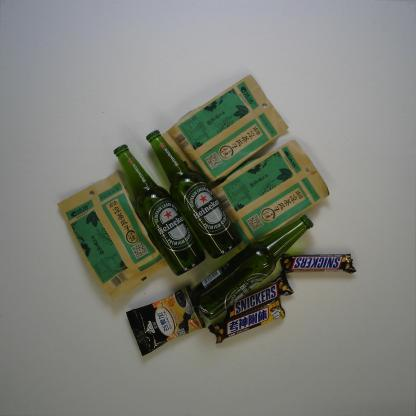Alcohol: (190, 212, 314, 322), (145, 129, 243, 260), (113, 142, 206, 278)
Chocolate: (207, 296, 286, 344), (223, 270, 295, 321), (280, 253, 358, 274)
Dried Food: (56, 171, 170, 303), (160, 73, 289, 188), (210, 138, 330, 252)
Instant Drink: (125, 284, 206, 357)
